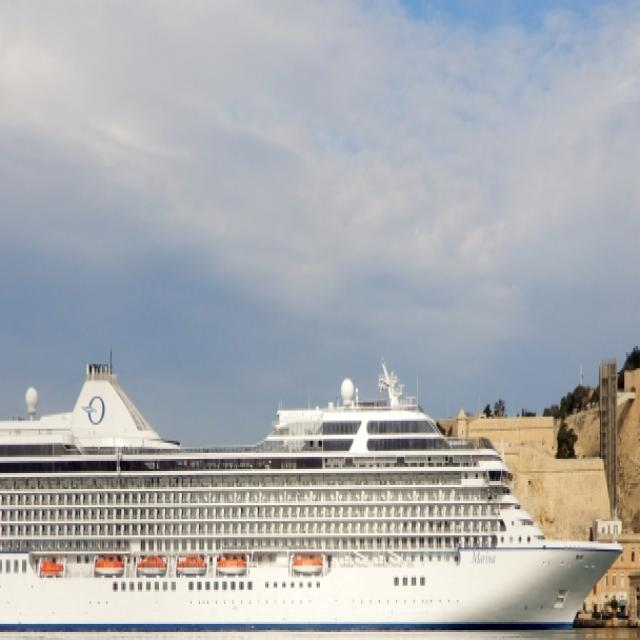cruises: (1, 339, 626, 640)
